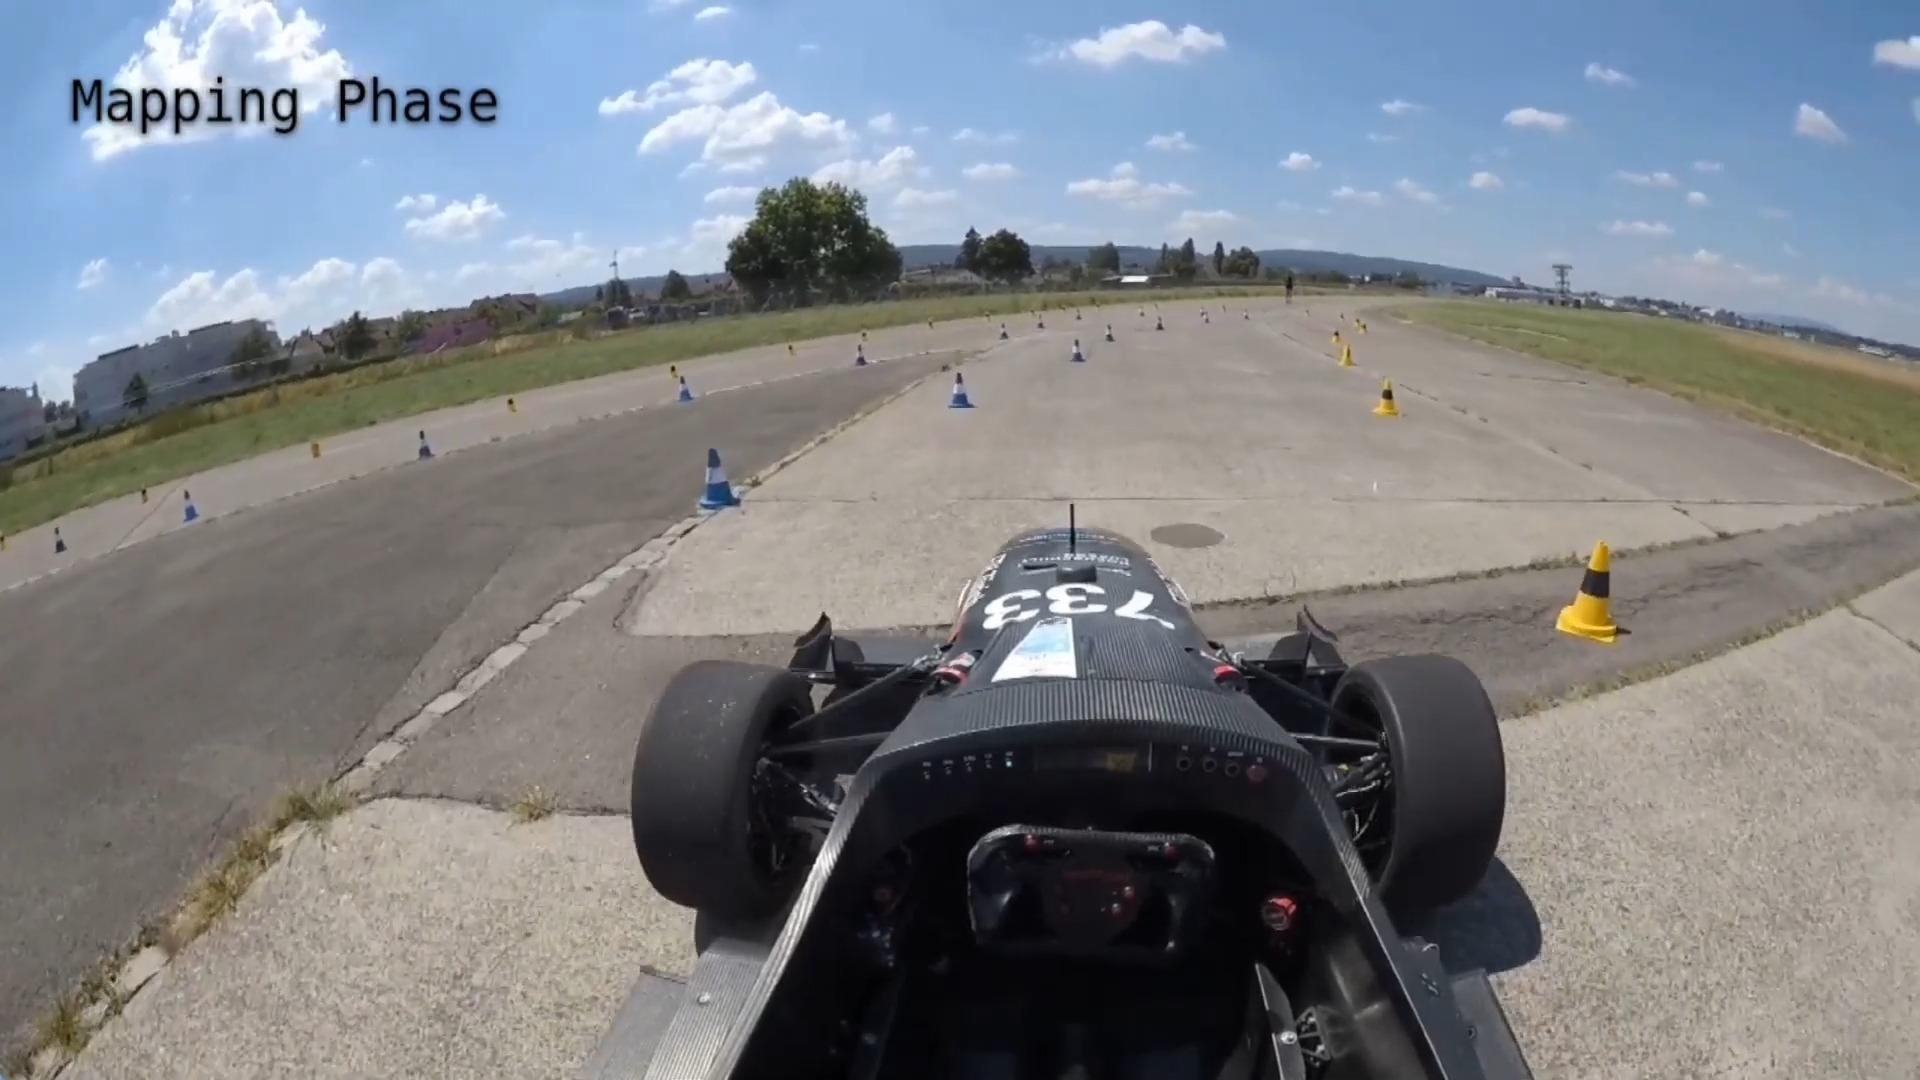blue_cone: (695, 444, 744, 513), (947, 371, 976, 410), (178, 488, 202, 524), (414, 427, 434, 459), (674, 376, 695, 402), (1069, 338, 1085, 363), (853, 344, 869, 367)
yellow_cone: (1553, 535, 1626, 646), (1373, 376, 1400, 417), (1340, 343, 1354, 367), (1331, 326, 1341, 344), (1360, 319, 1369, 336)
